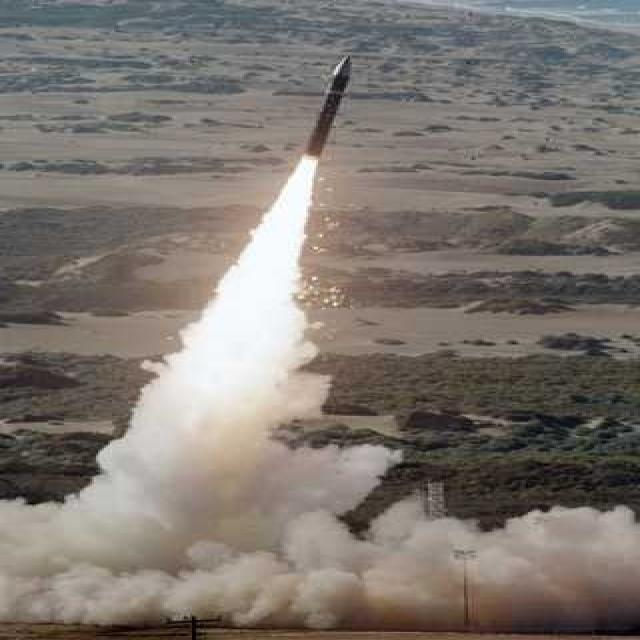missile: (297, 51, 358, 165)
